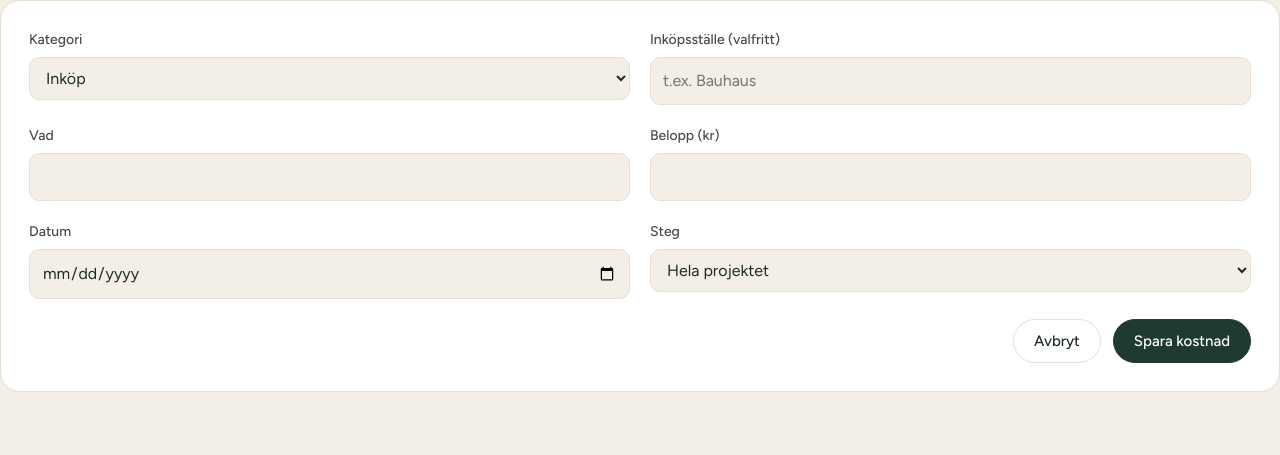
Test case: ExpenseForm › shows the error from the server
The image size is (1280, 455).
Type "Kakel" into the field labelled "Vad" at (330, 177), box [29,153,630,201]
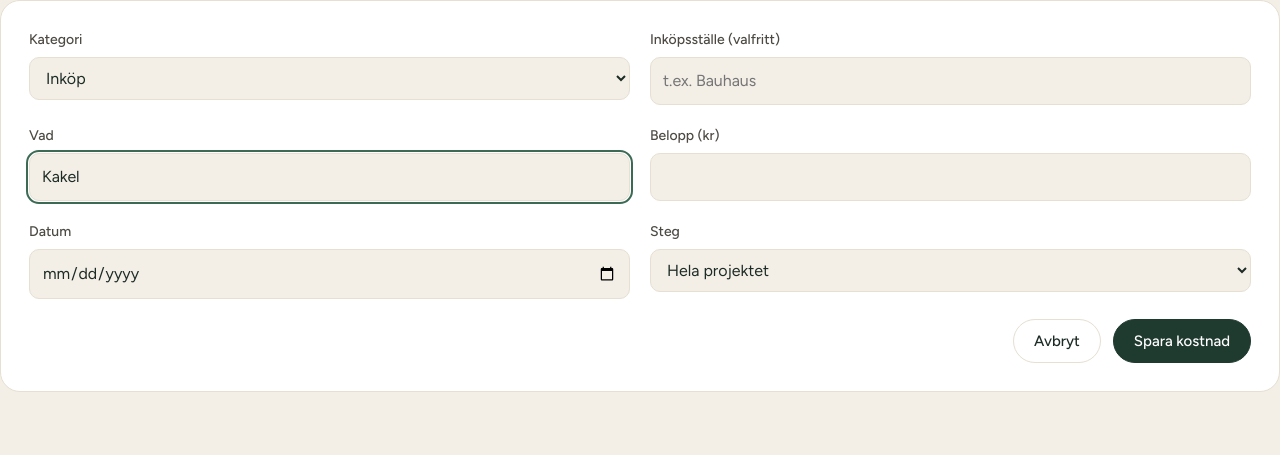
Type "1000" into the number field labelled "Belopp (kr)" at (950, 177), box [650,153,1251,201]
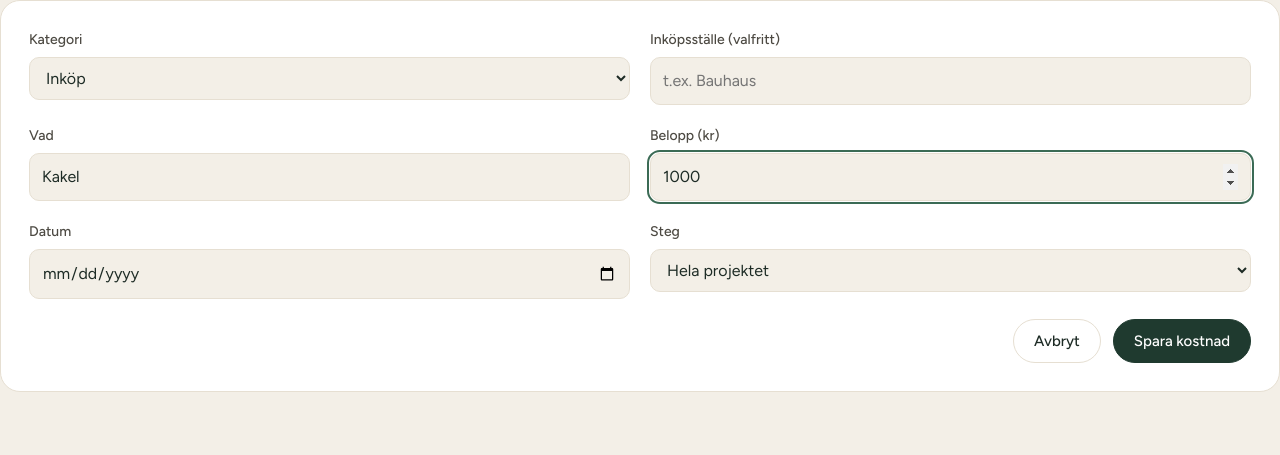
Click the button "Spara kostnad" at (1182, 341), box [1113,319,1251,363]
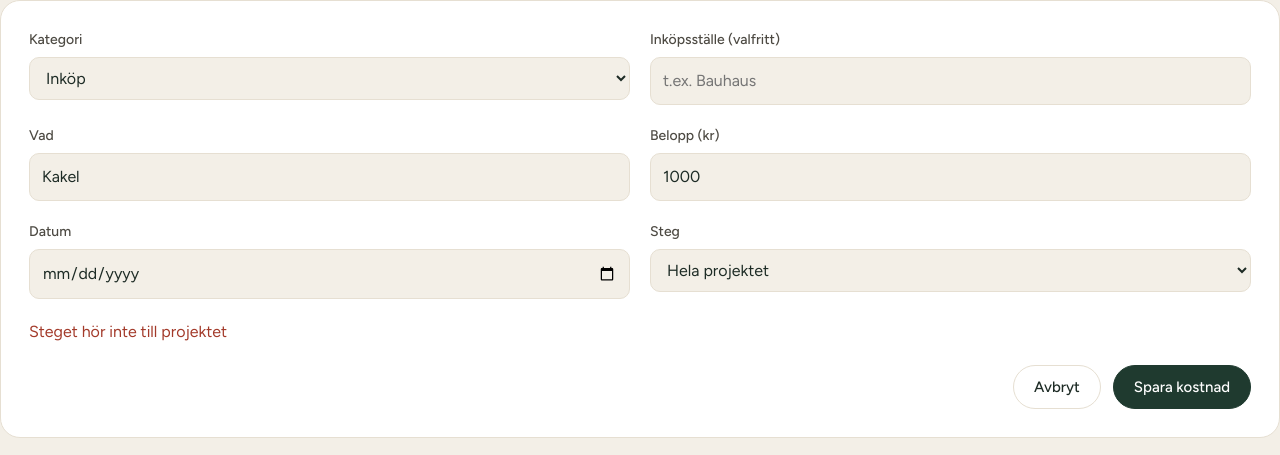
Check: the message reads "Steget hör inte till projektet", box [29,322,227,341]
